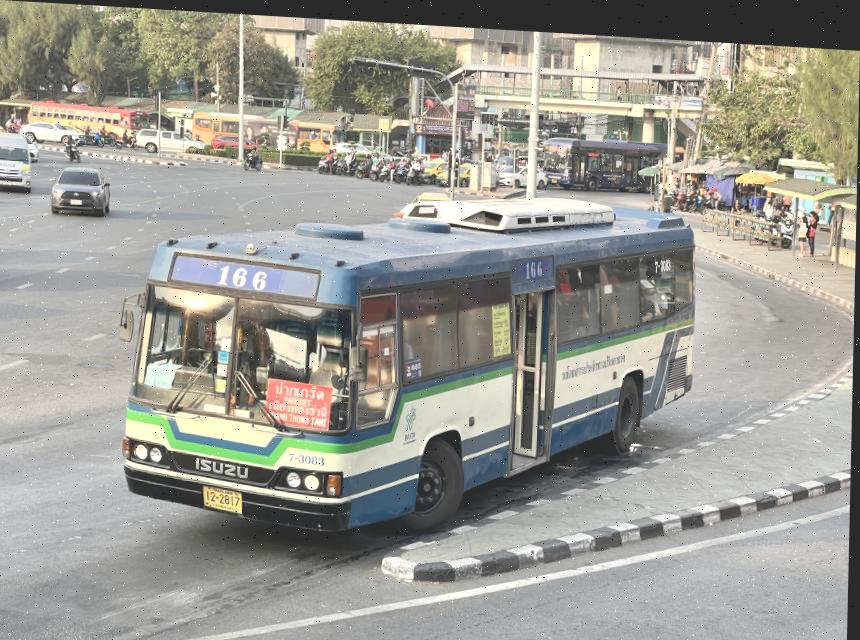BMTA-bus: (122, 187, 699, 531)
Bus Line Number: (210, 254, 284, 292)
Bus Side Number: (287, 443, 332, 464)
Destination Sign: (265, 370, 334, 432)
